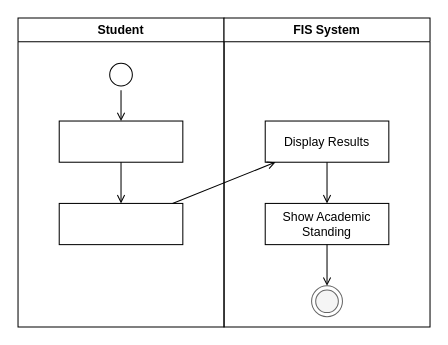
This 448x345 diagram has some shape labels left out. The centre of each missing label's shape, as x and y in pixels:
"Login to FIS" goes at point 120,141.
"View Grades & GPA" goes at point 120,223.
